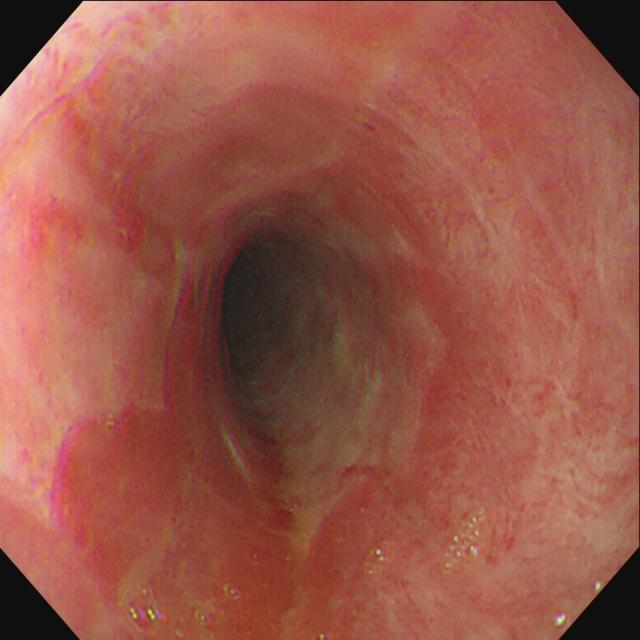D: (59, 408, 175, 582), (436, 326, 515, 499)
E: (223, 239, 308, 381)
J: (271, 307, 434, 542)
T: (442, 506, 490, 575), (126, 591, 168, 632), (368, 547, 392, 572)
